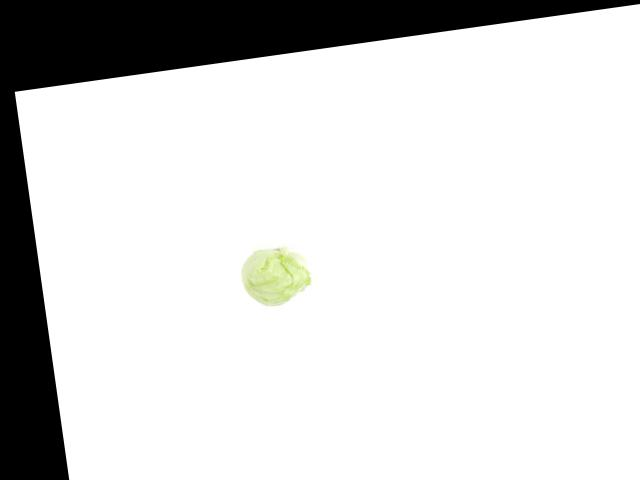lettuce: (232, 242, 322, 317)
